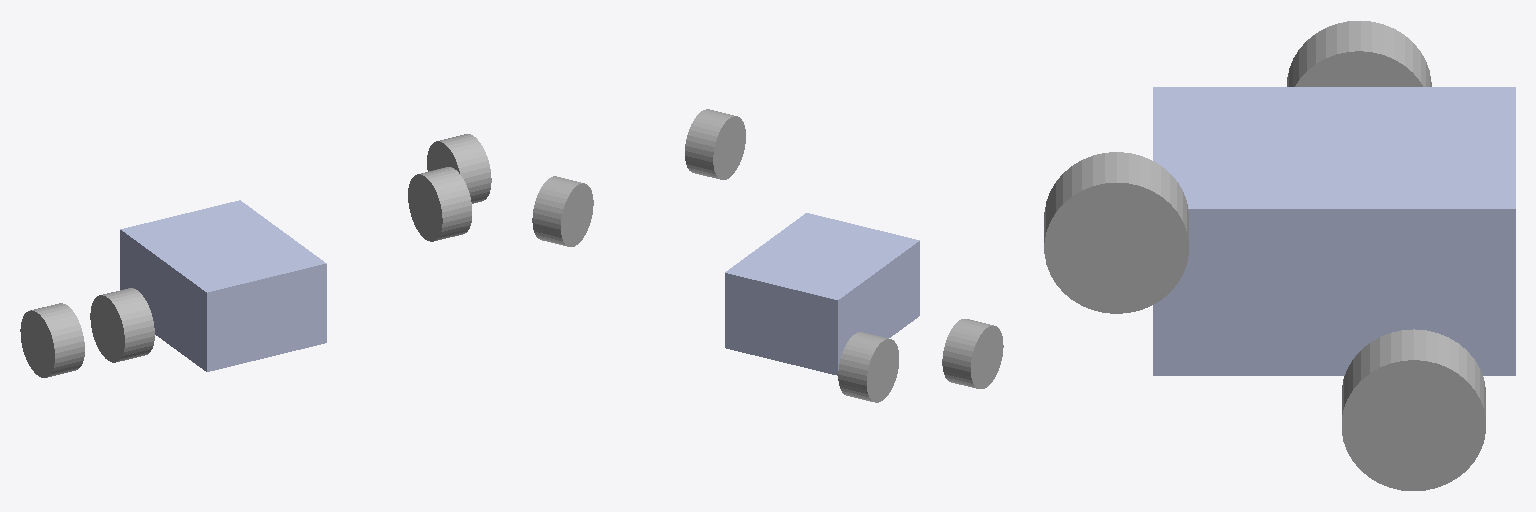
robot.urdf — assy:
<robot
  name="assy">
  <link
    name="base_link">
    <inertial>
      <origin
        xyz="9.60927531771405E-18 0 0"
        rpy="0 0 0" />
      <mass
        value="6.35" />
      <inertia
        ixx="0"
        ixy="0"
        ixz="0"
        iyy="0"
        iyz="0"
        izz="0" />
    </inertial>
    <visual>
      <origin
        xyz="0 0 0"
        rpy="0 0 0" />
      <geometry>
        <mesh
          filename="package://assy/meshes/base_link.STL" />
      </geometry>
      <material
        name="">
        <color
          rgba="0.792156862745098 0.819607843137255 0.933333333333333 1" />
      </material>
    </visual>
    <collision>
      <origin
        xyz="0 0 0"
        rpy="0 0 0" />
      <geometry>
        <mesh
          filename="package://assy/meshes/base_link.STL" />
      </geometry>
    </collision>
  </link>
  <link
    name="L1">
    <inertial>
      <origin
        xyz="0.025 0 0"
        rpy="0 0 0" />
      <mass
        value="0.3927" />
      <inertia
        ixx="0"
        ixy="0"
        ixz="0"
        iyy="0"
        iyz="0"
        izz="0" />
    </inertial>
    <visual>
      <origin
        xyz="0 0 0"
        rpy="0 0 0" />
      <geometry>
        <mesh
          filename="package://assy/meshes/L1.STL" />
      </geometry>
      <material
        name="">
        <color
          rgba="0.75294 0.75294 0.75294 1" />
      </material>
    </visual>
    <collision>
      <origin
        xyz="0 0 0"
        rpy="0 0 0" />
      <geometry>
        <mesh
          filename="package://assy/meshes/L1.STL" />
      </geometry>
    </collision>
  </link>
  <joint
    name="J1"
    type="continuous">
    <origin
      xyz="-0.15 0.075 -0.0635"
      rpy="0 0 0" />
    <parent
      link="base_link" />
    <child
      link="L1" />
    <axis
      xyz="1 0 0" />
  </joint>
  <link
    name="L2">
    <inertial>
      <origin
        xyz="0.025 0 0"
        rpy="0 0 0" />
      <mass
        value="0.392699081698724" />
      <inertia
        ixx="0"
        ixy="0"
        ixz="0"
        iyy="0"
        iyz="0"
        izz="0" />
    </inertial>
    <visual>
      <origin
        xyz="0 0 0"
        rpy="0 0 0" />
      <geometry>
        <mesh
          filename="package://assy/meshes/L2.STL" />
      </geometry>
      <material
        name="">
        <color
          rgba="0.752941176470588 0.752941176470588 0.752941176470588 1" />
      </material>
    </visual>
    <collision>
      <origin
        xyz="0 0 0"
        rpy="0 0 0" />
      <geometry>
        <mesh
          filename="package://assy/meshes/L2.STL" />
      </geometry>
    </collision>
  </link>
  <joint
    name="J2"
    type="continuous">
    <origin
      xyz="-0.15 -0.075 -0.0635"
      rpy="0 0 0" />
    <parent
      link="base_link" />
    <child
      link="L2" />
    <axis
      xyz="1 0 0" />
  </joint>
  <link
    name="L3">
    <inertial>
      <origin
        xyz="-0.025 0 0"
        rpy="0 0 0" />
      <mass
        value="0.3927" />
      <inertia
        ixx="0"
        ixy="0"
        ixz="0"
        iyy="0"
        iyz="0"
        izz="0" />
    </inertial>
    <visual>
      <origin
        xyz="0 0 0"
        rpy="0 0 0" />
      <geometry>
        <mesh
          filename="package://assy/meshes/L3.STL" />
      </geometry>
      <material
        name="">
        <color
          rgba="0.75294 0.75294 0.75294 1" />
      </material>
    </visual>
    <collision>
      <origin
        xyz="0 0 0"
        rpy="0 0 0" />
      <geometry>
        <mesh
          filename="package://assy/meshes/L3.STL" />
      </geometry>
    </collision>
  </link>
  <joint
    name="J3"
    type="continuous">
    <origin
      xyz="0.15 0.075 -0.0635"
      rpy="0 0 0" />
    <parent
      link="base_link" />
    <child
      link="L3" />
    <axis
      xyz="1 0 0" />
  </joint>
  <link
    name="L4">
    <inertial>
      <origin
        xyz="-0.025 0 0"
        rpy="0 0 0" />
      <mass
        value="0.3927" />
      <inertia
        ixx="0"
        ixy="0"
        ixz="0"
        iyy="0"
        iyz="0"
        izz="0" />
    </inertial>
    <visual>
      <origin
        xyz="0 0 0"
        rpy="0 0 0" />
      <geometry>
        <mesh
          filename="package://assy/meshes/L4.STL" />
      </geometry>
      <material
        name="">
        <color
          rgba="0.75294 0.75294 0.75294 1" />
      </material>
    </visual>
    <collision>
      <origin
        xyz="0 0 0"
        rpy="0 0 0" />
      <geometry>
        <mesh
          filename="package://assy/meshes/L4.STL" />
      </geometry>
    </collision>
  </link>
  <joint
    name="J4"
    type="continuous">
    <origin
      xyz="0.15 -0.075 -0.0635"
      rpy="0 0 0" />
    <parent
      link="base_link" />
    <child
      link="L4" />
    <axis
      xyz="1 0 0" />
  </joint>
</robot>

--- What the picture shows (computed from the rendered views, not written in the file) ---
Views: 3 orthographic renders of the robot side by side, from view 1: azimuth 30°, elevation 25°; view 2: azimuth 150°, elevation 25°; view 3: azimuth 270°, elevation 25°.
Model assy with 5 links and 4 joints (4 continuous), rooted at base_link, posed all joints at 0.
Links seen in each view (by area): view 1: base_link, L2, L1, L4, L3; view 2: base_link, L4, L1, L2, L3; view 3: base_link, L4, L3, L2.
Link boxes in pixels (left/top/right/bottom): base_link: left=120, top=200, right=326, bottom=371; L2: left=20, top=303, right=84, bottom=377; L1: left=90, top=288, right=154, bottom=362; L4: left=408, top=167, right=471, bottom=241; L3: left=427, top=134, right=491, bottom=203; base_link: left=725, top=213, right=919, bottom=375; L4: left=685, top=109, right=745, bottom=179; L1: left=838, top=332, right=898, bottom=402; L2: left=942, top=319, right=1003, bottom=388; L3: left=532, top=176, right=593, bottom=246; base_link: left=1153, top=87, right=1515, bottom=375; L4: left=1044, top=152, right=1188, bottom=313; L3: left=1342, top=329, right=1485, bottom=490; L2: left=1287, top=21, right=1431, bottom=86.
Size in the robot's own frame: 0.75 by 0.3248 by 0.2905 metres.
Meshes: 5 distinct files referenced, 5 mesh visuals loaded (5 binary STL).